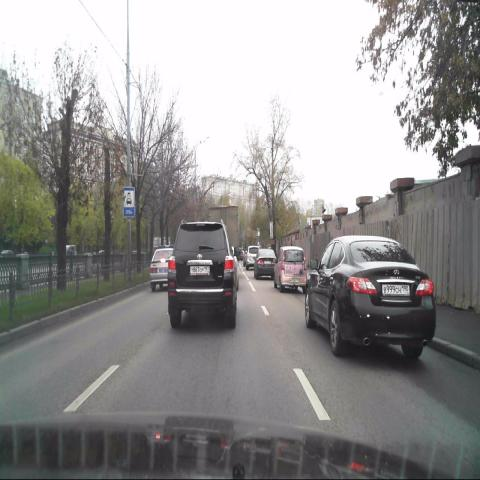7_5: (123, 188, 135, 218)
